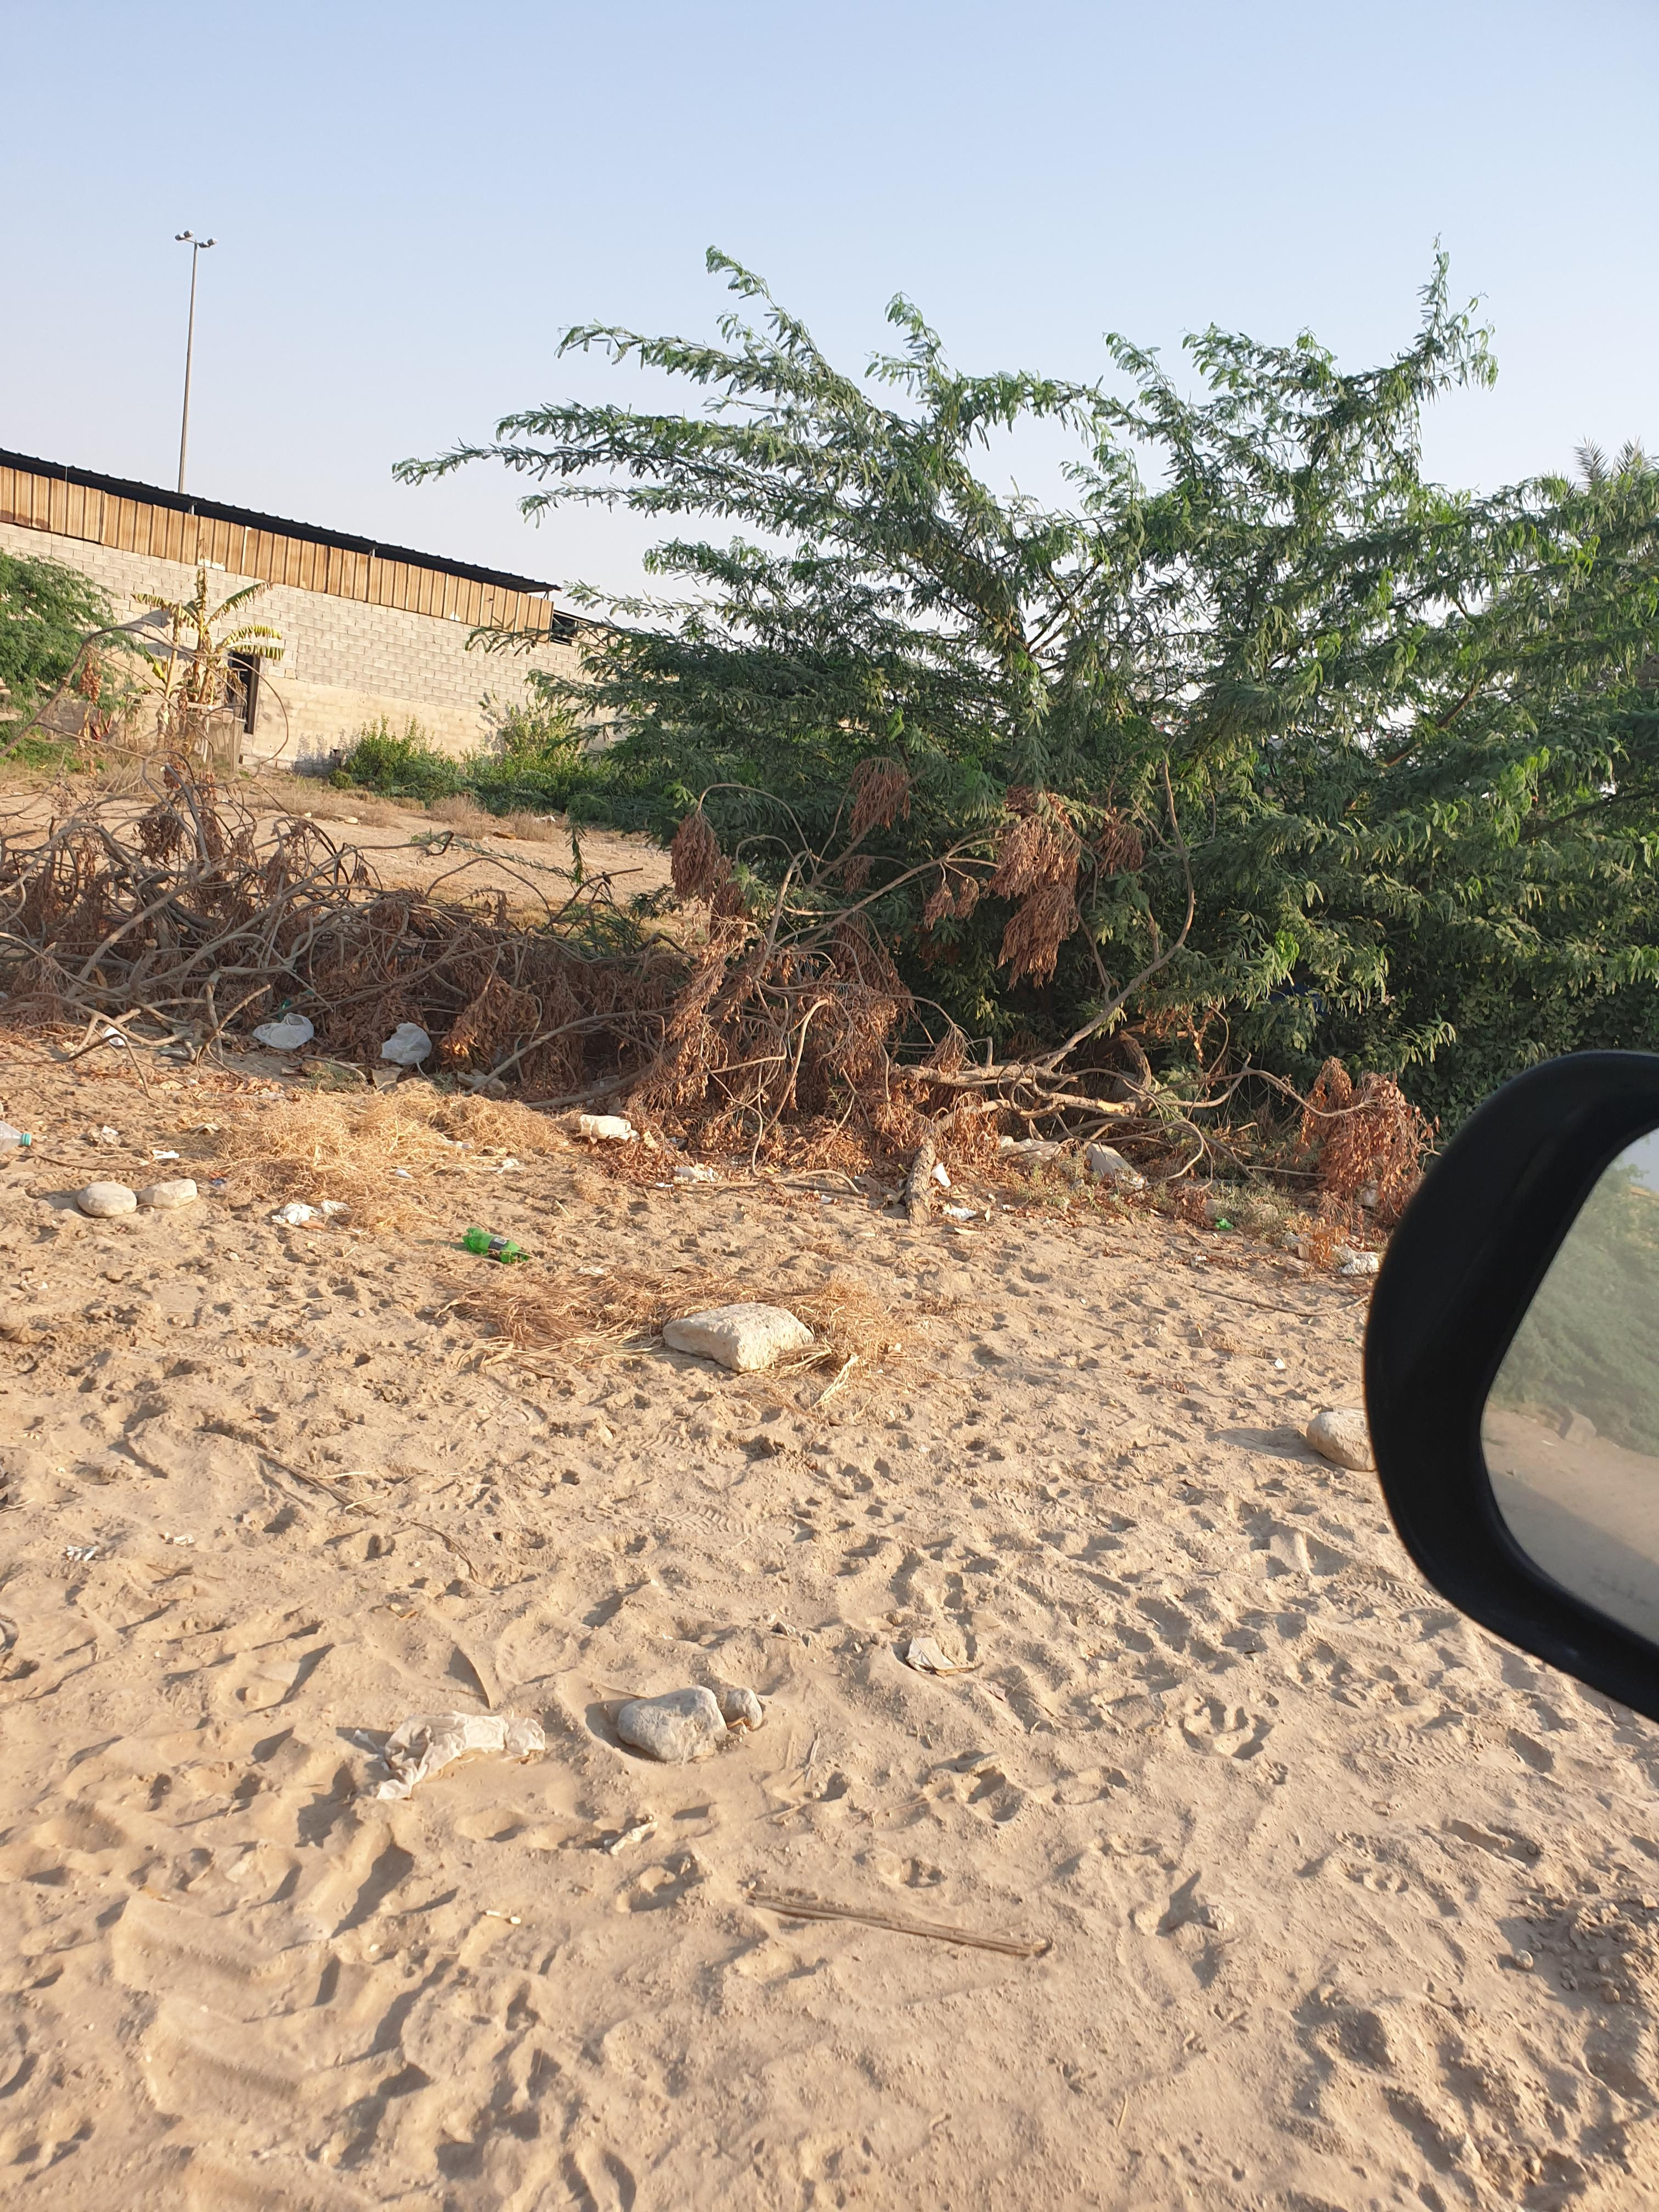fallen_trees: (71, 819, 615, 1101), (448, 975, 983, 1226)
